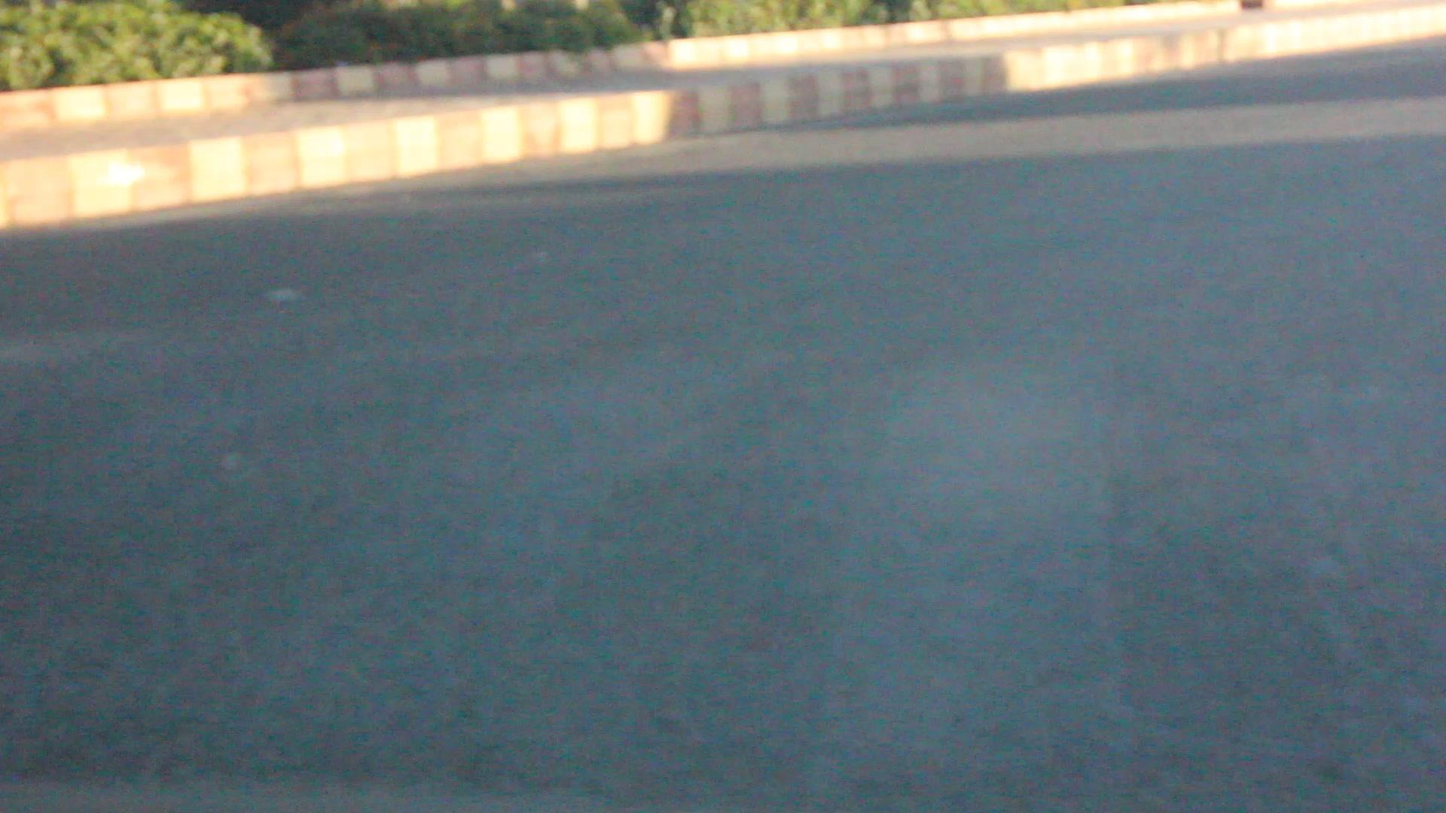Bump: (0, 326, 1445, 800)
